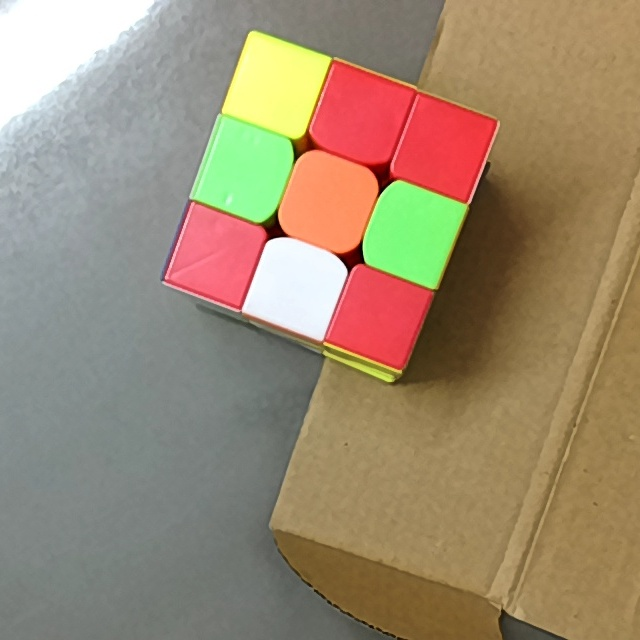tile: (295, 170, 361, 235), (411, 115, 476, 180), (245, 51, 311, 115), (324, 87, 393, 147), (380, 200, 444, 264), (213, 138, 277, 202), (264, 255, 329, 318), (183, 225, 248, 284), (349, 290, 410, 348)
